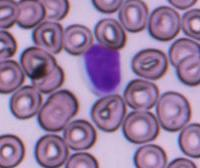L: (80, 42, 123, 97)
